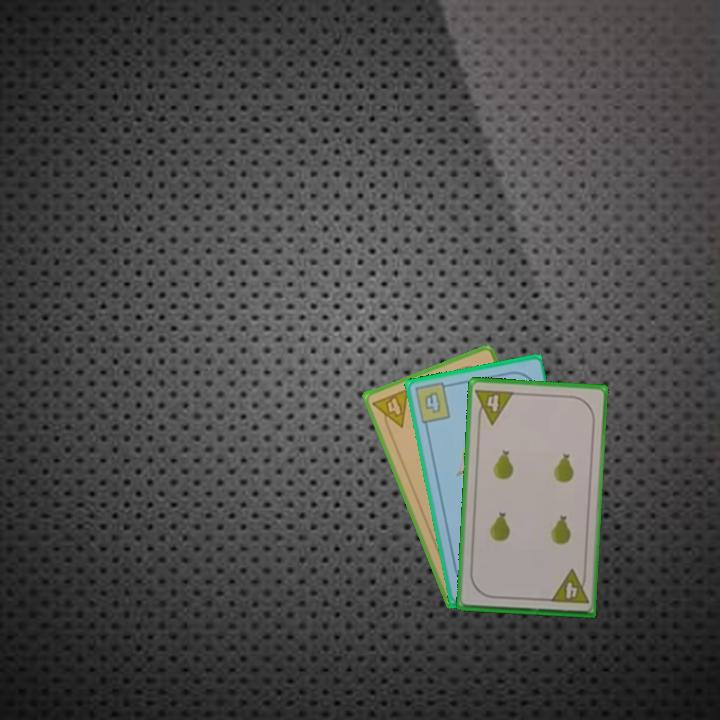4b: (410, 379, 454, 426)
4p: (369, 385, 412, 434), (472, 385, 517, 427), (547, 566, 591, 607)
